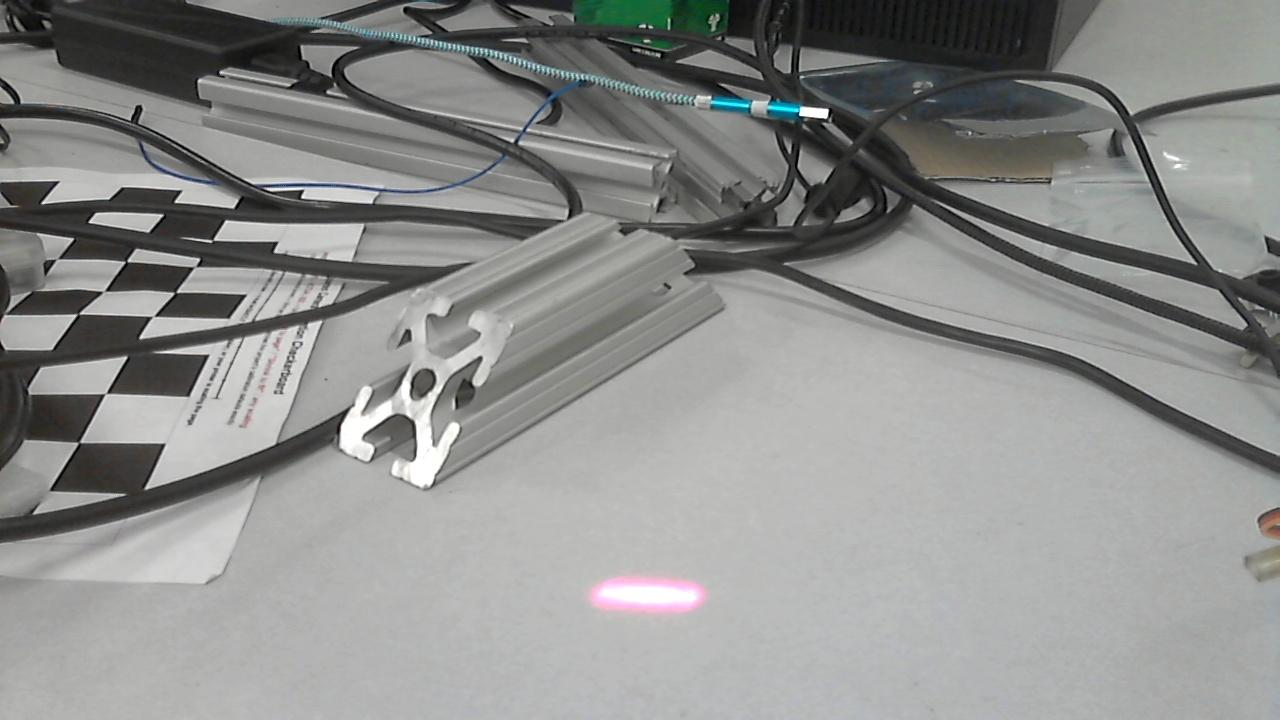Object tabletop - Material composite plastic - pdfname jhjasdfwat: (579, 565, 712, 622)
